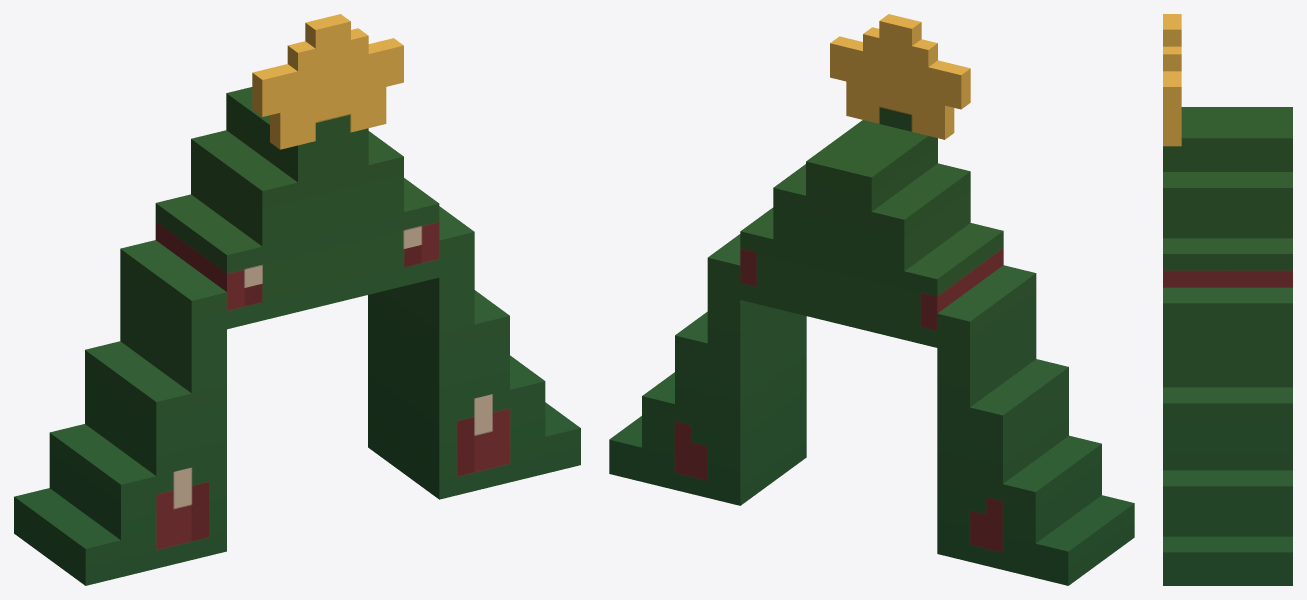
Rendered from Accessories050.fbx.
3 renders of one model, left to right at view 1: azimuth 30°, elevation 25°; view 2: azimuth 150°, elevation 25°; view 3: azimuth 270°, elevation 25°, orthographic. The views are drawn at different scales.
Parts seen in each view (by area): view 1: Accessories050; view 2: Accessories050; view 3: Accessories050.
Part boxes in pixels (<box>): Accessories050: <box>14,14,580,585</box>; Accessories050: <box>609,14,1134,585</box>; Accessories050: <box>1163,14,1292,585</box>.
Bounding box in the file's own units: 28.7 × 27.67 × 7.17.
